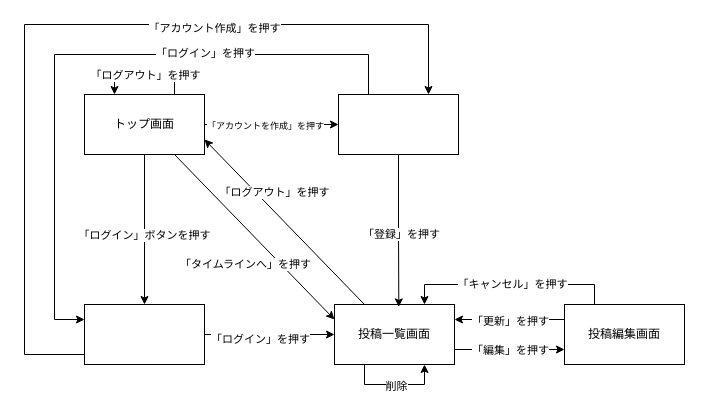
The diagram is 702 pixels wide and 410 high, and some of its shapes have lost their labels. Here are the shapes that lost their labels. From the top down, the centre of each, then its label:
point 398,124: ユーザー登録画面
point 144,334: ログイン画面
